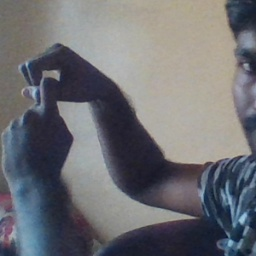Q: (3, 42, 99, 163)
